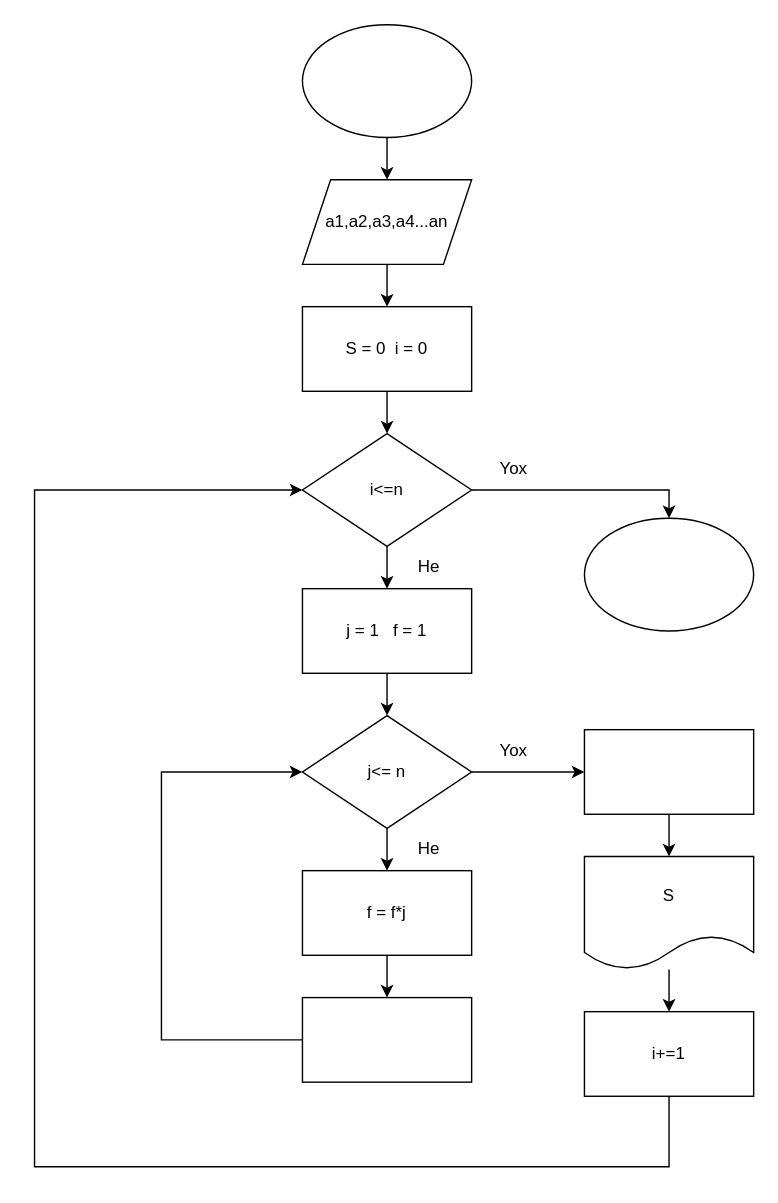
Some shapes in this 778 by 1203 pixel diagram are drawn without their labels. Each missing label, with the centre of its shape:
Baslangic: [386,80]
j+=1: [386,1039]
S=ai + f: [668,771]
Son: [668,574]
